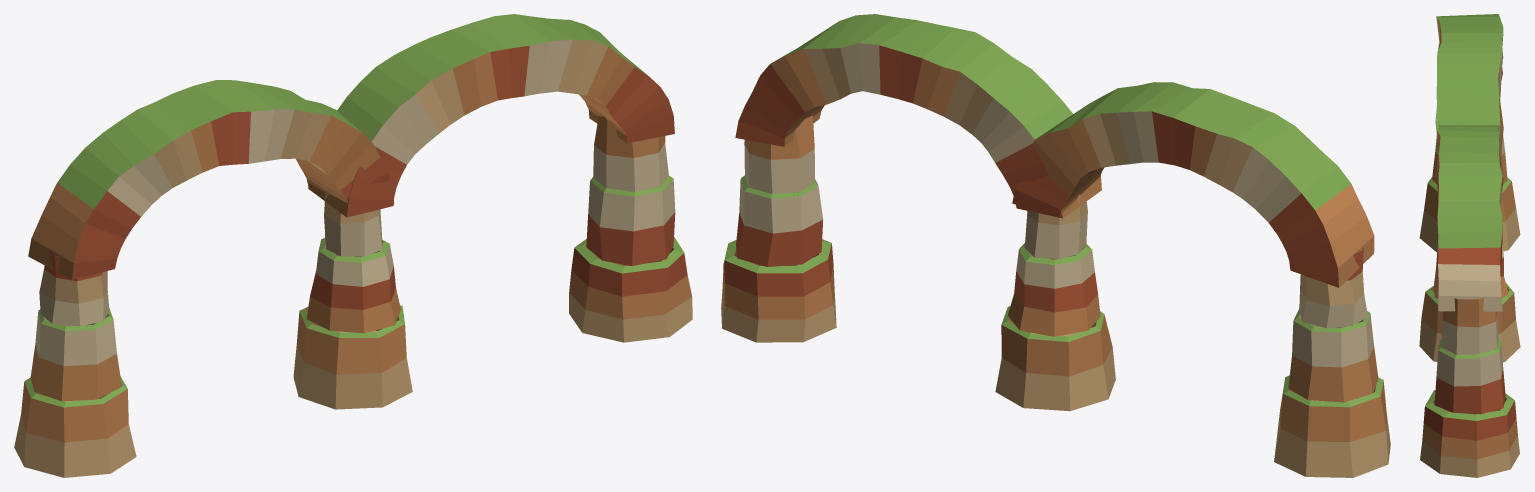
File: arch_twin.glb
3 renders of one model, left to right at view 1: azimuth 30°, elevation 25°; view 2: azimuth 150°, elevation 25°; view 3: azimuth 270°, elevation 25°, orthographic. The views are drawn at different scales.
Visible parts, largest first — view 1: arch_twin; view 2: arch_twin; view 3: arch_twin.
Part boxes in pixels (bbox=[...]): arch_twin: bbox=[14, 14, 692, 477]; arch_twin: bbox=[721, 14, 1390, 477]; arch_twin: bbox=[1419, 14, 1520, 477].
Size of the model in its own units: 55.34 by 25.42 by 9.
